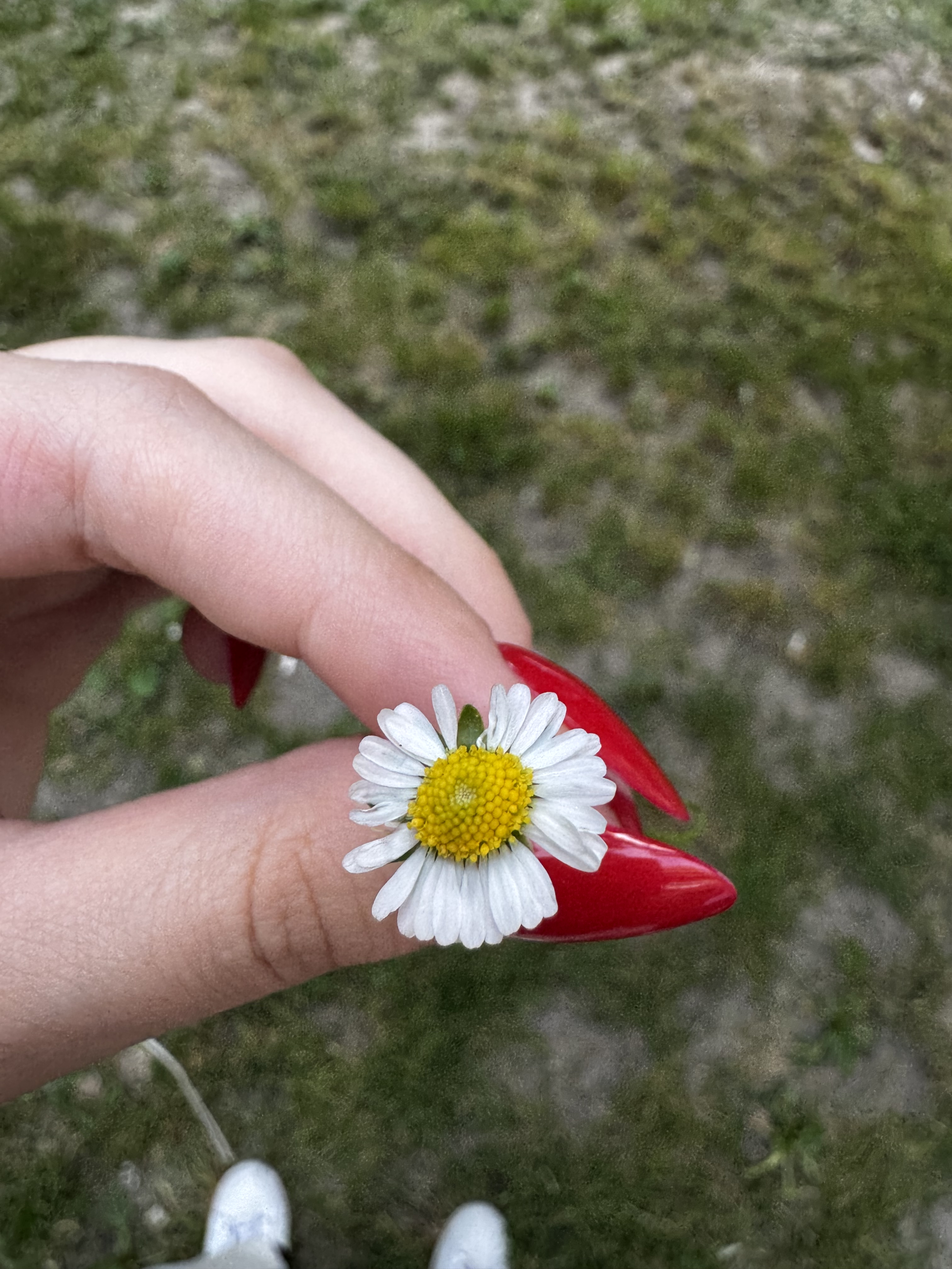daisy: (329, 672, 624, 958)
